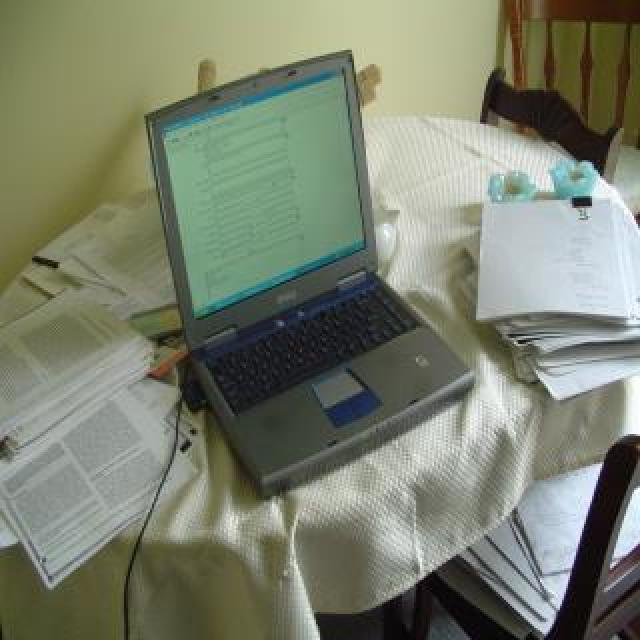laptop_computer: (155, 42, 470, 472)
